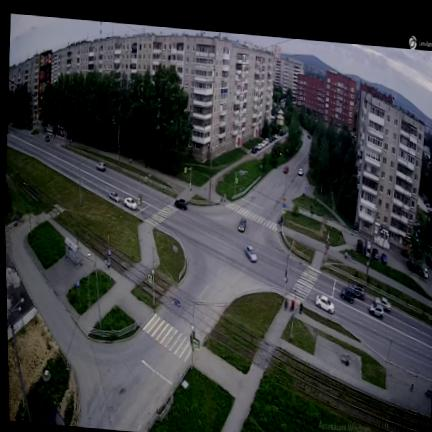bench: (342, 352, 350, 363), (426, 390, 431, 396)
busStop: (65, 237, 82, 267)
busStopSign: (76, 282, 81, 307), (108, 248, 111, 277)
car: (315, 295, 334, 314), (349, 284, 365, 299), (374, 297, 391, 311), (341, 288, 355, 303), (245, 245, 257, 262), (370, 305, 383, 319), (124, 198, 137, 210), (174, 199, 187, 210), (109, 192, 120, 202), (239, 218, 246, 232), (357, 239, 363, 252), (422, 267, 428, 280), (372, 248, 378, 260), (97, 163, 106, 171), (381, 253, 387, 264), (298, 167, 303, 177), (284, 166, 289, 173)
cyclist: (284, 299, 288, 309)
garbageBin: (410, 384, 413, 391)
human: (346, 354, 350, 367), (300, 302, 303, 314), (105, 258, 108, 269), (292, 301, 295, 311), (129, 158, 132, 165), (224, 193, 226, 201), (345, 252, 347, 259), (77, 239, 79, 245), (220, 196, 222, 202), (145, 161, 147, 167)
lightPole: (366, 210, 377, 282), (94, 254, 101, 327), (114, 119, 120, 165), (78, 158, 81, 205)
pedestianCross: (143, 314, 191, 361), (226, 203, 278, 231), (287, 267, 321, 303), (148, 201, 178, 226)
pedestrianSign: (148, 269, 155, 305)
trafficLight: (136, 173, 152, 221), (283, 244, 293, 296), (191, 325, 199, 368), (185, 167, 192, 194), (325, 232, 330, 266), (280, 203, 286, 231), (235, 173, 237, 194)
truck: (365, 239, 371, 257)
